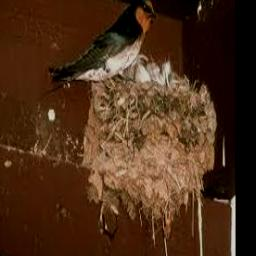Swallow: (49, 0, 156, 85)
